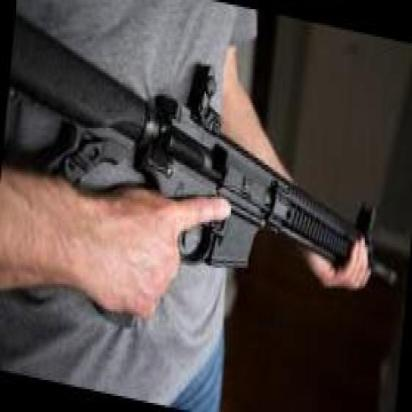Gun: (0, 23, 391, 278)
